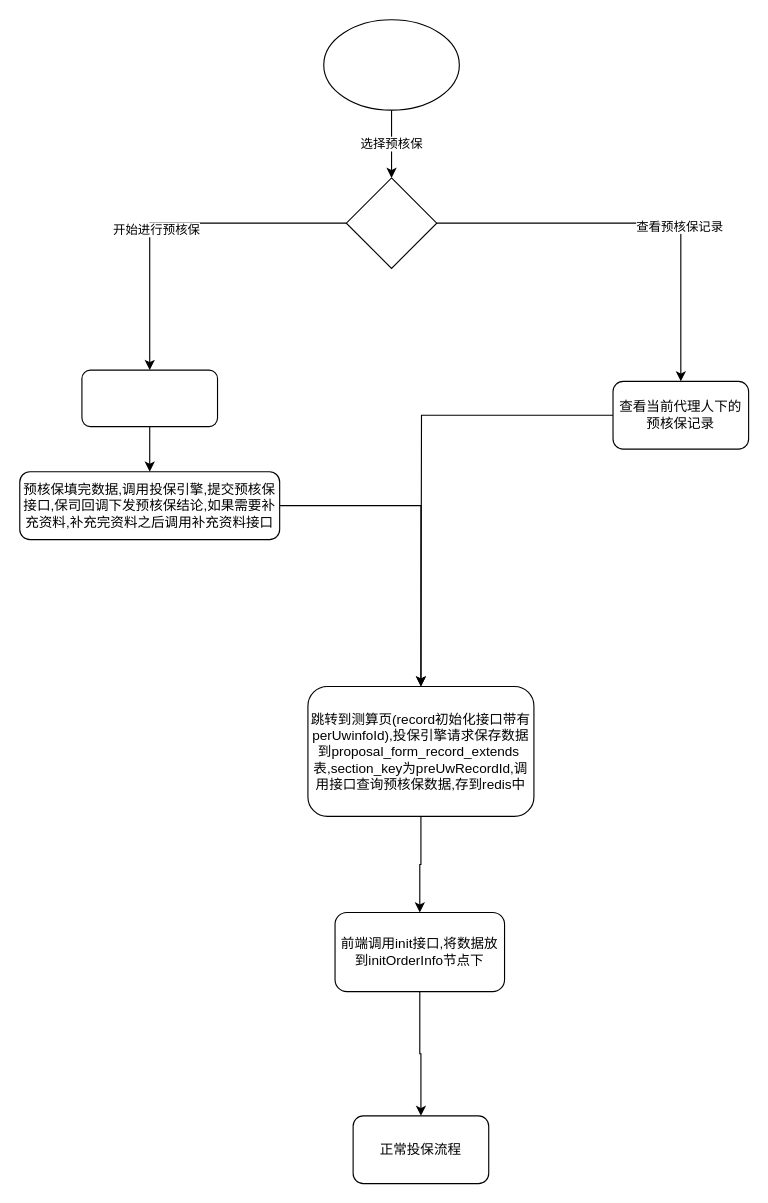
Image size: 768x1203. Some labels were removed from this diagram. Here are the shapes that lost their labels. From the top down, the box of each, then its label:
(323, 19, 459, 110): 信泰测算页面
(81, 369, 218, 427): 预核保数据填写
